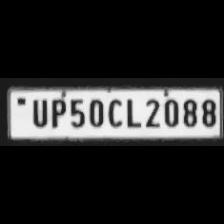0: (85, 95, 105, 127), (160, 95, 180, 127)
2: (141, 96, 161, 128)
5: (66, 96, 86, 128)
8: (197, 96, 217, 128), (180, 96, 198, 128)
C: (105, 95, 123, 127)
L: (122, 96, 142, 128)
P: (48, 97, 66, 128)
U: (28, 96, 48, 128)
